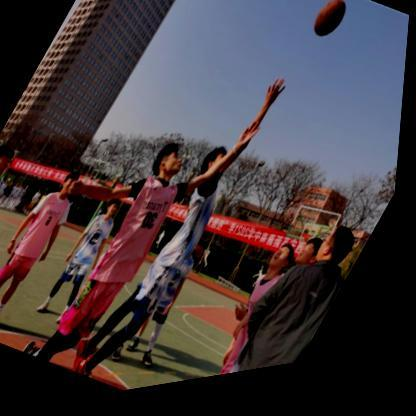basketball: (308, 2, 352, 54)
